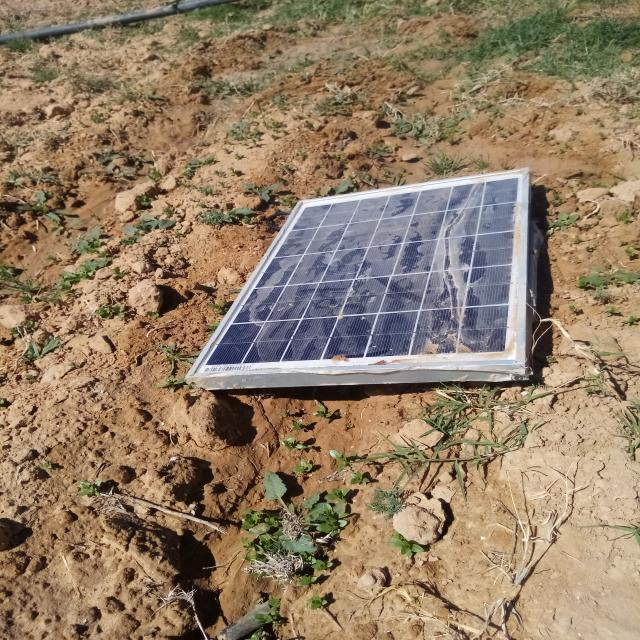faulty: (190, 170, 526, 377)
